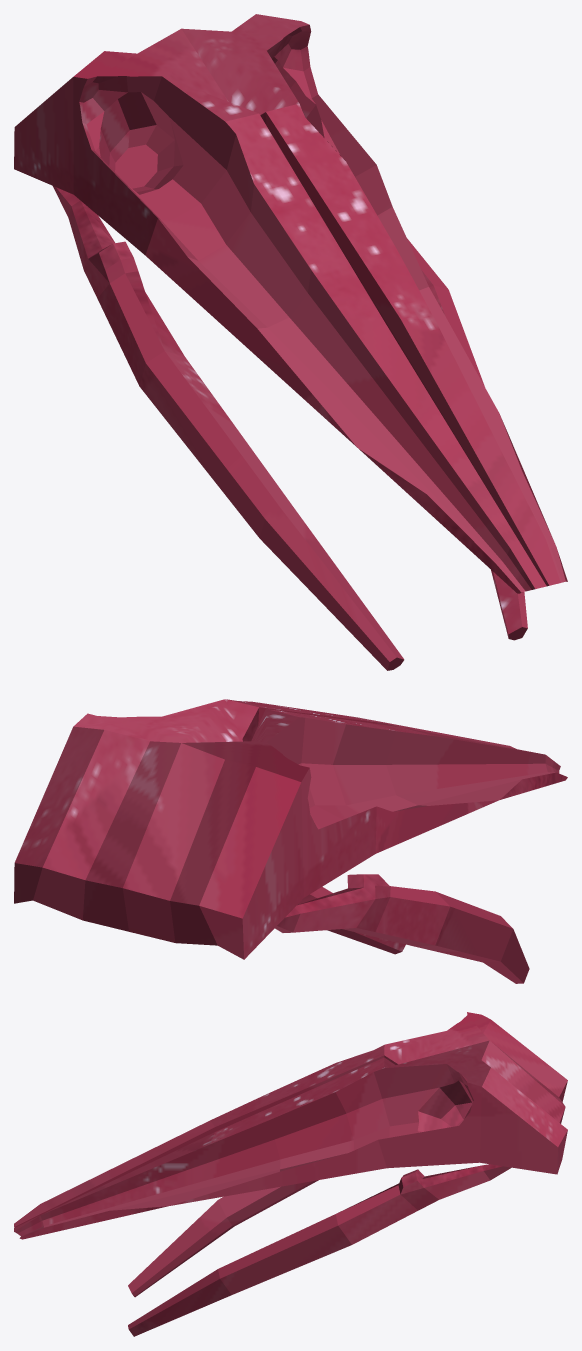
The model's file is Whale_skull.fbx.
3 renders of one model, top to bottom at view 1: azimuth 30°, elevation 25°; view 2: azimuth 150°, elevation 25°; view 3: azimuth 270°, elevation 25°, orthographic. The views are drawn at different scales.
Visible parts, largest first — view 1: Bottom Skull1; view 2: Bottom Skull1; view 3: Bottom Skull1.
Boxes of the visible parts, <box> form: Bottom Skull1: <box>14,14,567,670</box>; Bottom Skull1: <box>14,699,567,983</box>; Bottom Skull1: <box>14,1012,567,1336</box>.
Bounding box in the file's own units: 760 × 1022 × 1857.
